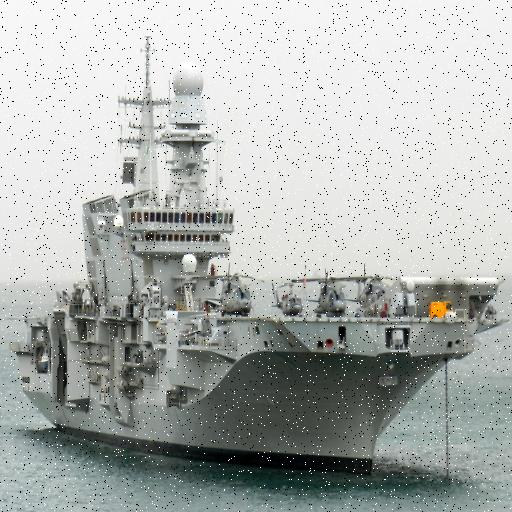Portanaves: (8, 27, 512, 482)
